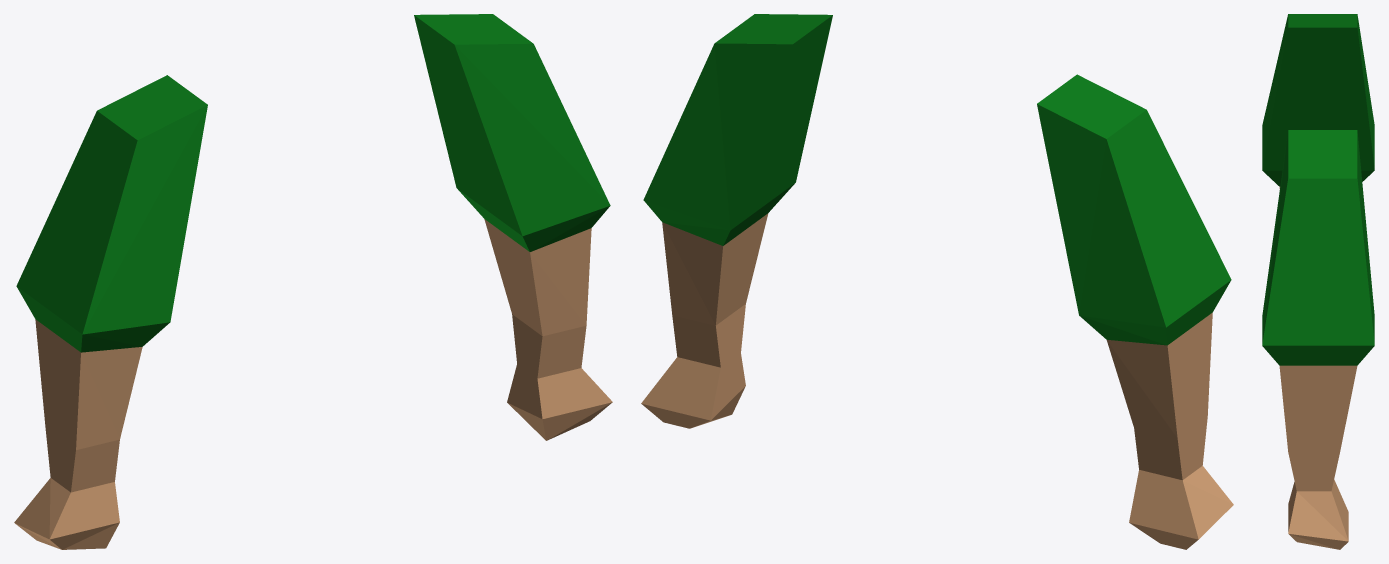
The model's file is npc_world_wilough_2.obj.
The picture shows the model from 3 angles, left to right: view 1: azimuth 30°, elevation 25°; view 2: azimuth 150°, elevation 25°; view 3: azimuth 270°, elevation 25°; orthographic projection. The views are drawn at different scales.
Size of the model in its own units: 0.5 by 0.3594 by 0.1016.
